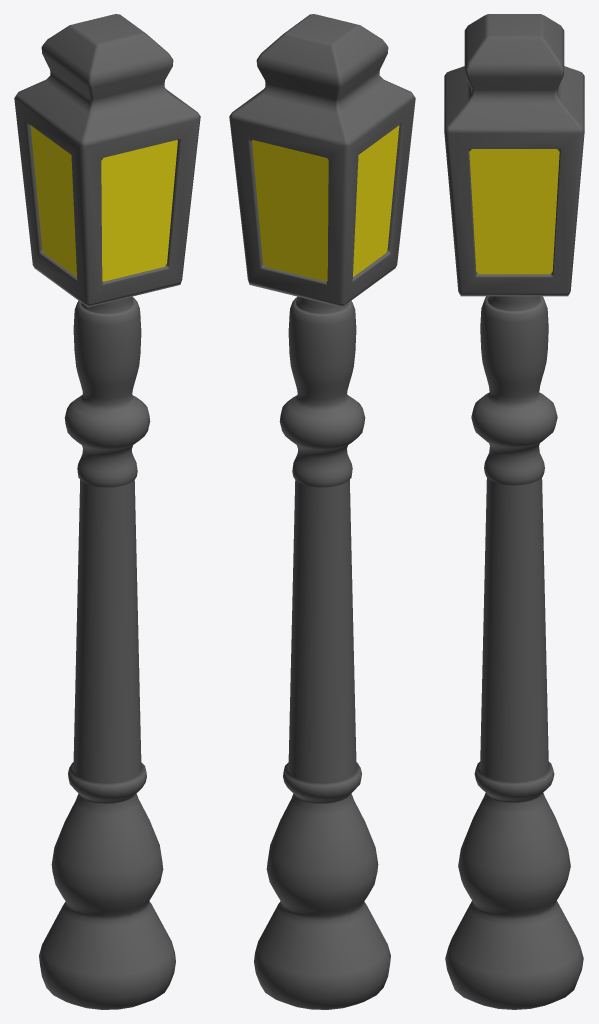
Rendered from City_9_Lantern_1.glb.
3 views of the same model, side by side, from view 1: azimuth 30°, elevation 25°; view 2: azimuth 150°, elevation 25°; view 3: azimuth 270°, elevation 25° (orthographic).
Parts seen in each view (by area): view 1: City_9_Lantern_1; view 2: City_9_Lantern_1; view 3: City_9_Lantern_1.
Part boxes in pixels (x1=…): City_9_Lantern_1: x1=14, y1=14, x2=200, y2=1009; City_9_Lantern_1: x1=229, y1=14, x2=415, y2=1009; City_9_Lantern_1: x1=444, y1=14, x2=584, y2=1009.
Size of the model in its own units: 0.5658 by 4.3 by 0.5657.
Materials: 1 (1 with a texture image).
